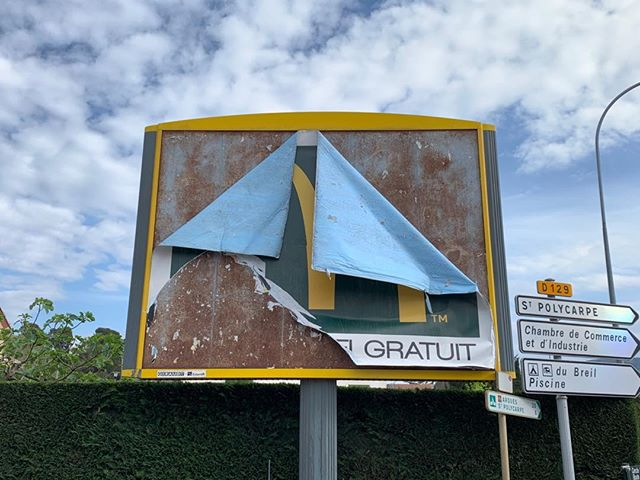sign: (135, 114, 502, 388), (521, 290, 640, 400)
sky: (1, 1, 640, 114), (1, 114, 147, 308), (500, 119, 640, 279)
tree: (1, 305, 120, 381)
